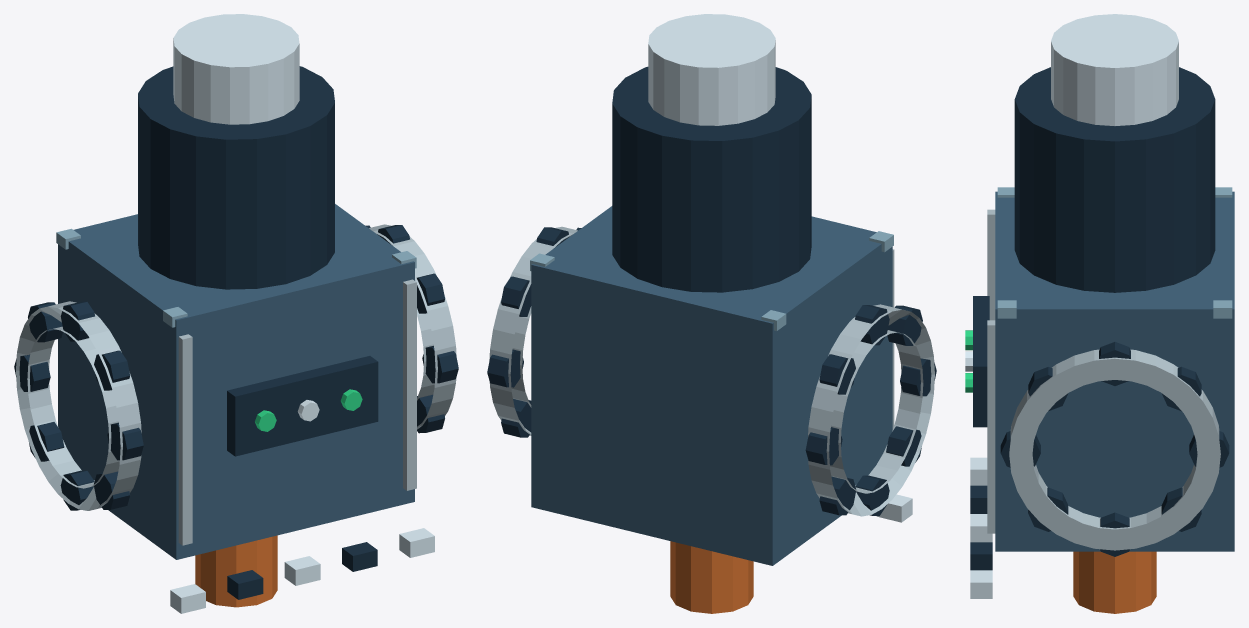
File: 18_L72_HighSpeedPurgeValve.fbx
3 renders of one model, left to right at view 1: azimuth 30°, elevation 25°; view 2: azimuth 150°, elevation 25°; view 3: azimuth 270°, elevation 25°, orthographic.
Visible parts, largest first — view 1: HighSpeedPurgeValve; view 2: HighSpeedPurgeValve; view 3: HighSpeedPurgeValve.
Boxes of the visible parts, x1,y1,x2,y2 form: HighSpeedPurgeValve: (14, 14, 458, 613); HighSpeedPurgeValve: (487, 14, 936, 613); HighSpeedPurgeValve: (965, 14, 1234, 613).
Bounding box in the file's own units: 70.5 × 110 × 48.4.
